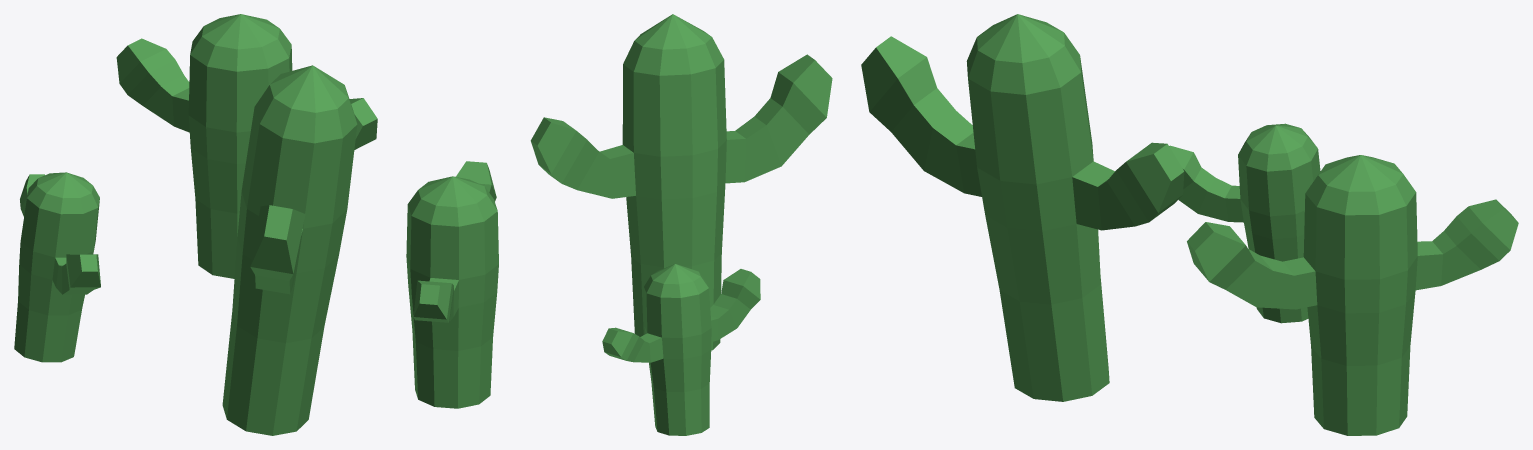
Rendered from Cactus.fbx.
3 renders of one model, left to right at view 1: azimuth 30°, elevation 25°; view 2: azimuth 150°, elevation 25°; view 3: azimuth 270°, elevation 25°, orthographic. The views are drawn at different scales.
Parts seen in each view (by area): view 1: cactus1, cactus, cactus2; view 2: cactus1, cactus, cactus2; view 3: cactus1, cactus, cactus2.
Part boxes in pixels (x1,y1,x2,y2): cactus1: (222, 65, 357, 435); cactus: (116, 14, 377, 278); cactus2: (14, 172, 100, 362); cactus1: (530, 14, 832, 350); cactus: (406, 161, 498, 408); cactus2: (602, 264, 760, 435); cactus1: (861, 14, 1184, 401); cactus: (1187, 155, 1518, 435); cactus2: (1169, 123, 1320, 323).
Size of the model in its own units: 0.224 by 0.2377 by 0.3696.
